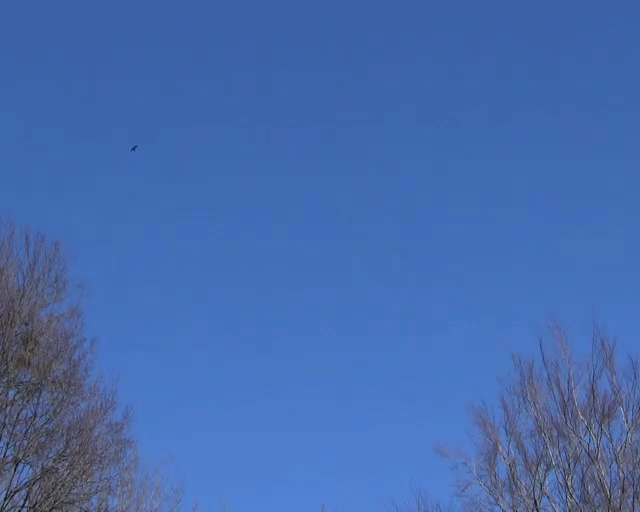BIRD: (130, 144, 138, 151)
